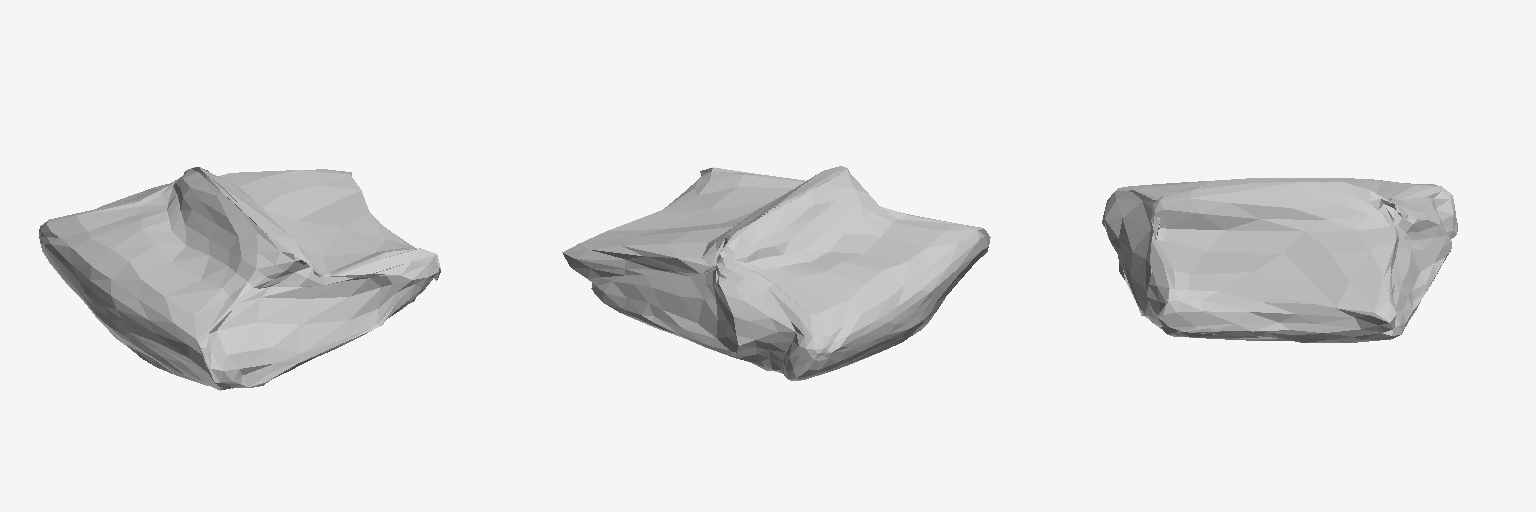
File: video3_156.obj
The picture shows the model from 3 angles: view 1: azimuth 30°, elevation 25°; view 2: azimuth 150°, elevation 25°; view 3: azimuth 270°, elevation 25°; orthographic projection.
Bounding box in the file's own units: 0.9786 × 0.3993 × 1.